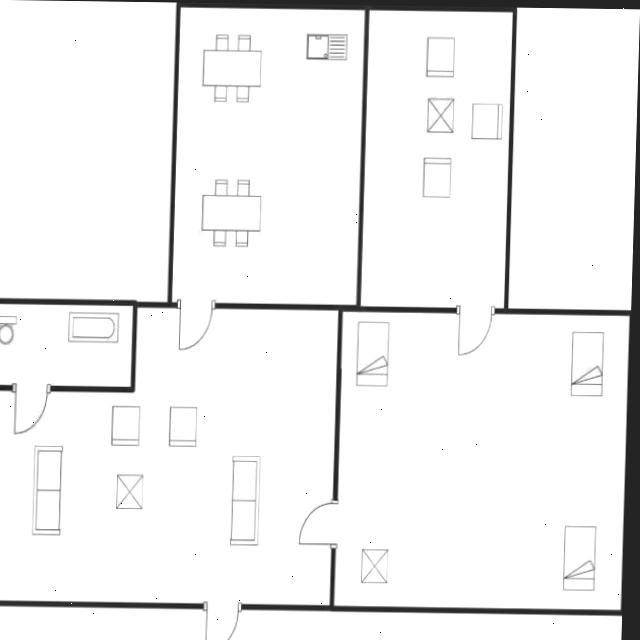room: (0, 305, 338, 606), (334, 307, 630, 614), (172, 5, 365, 308), (361, 8, 513, 310), (0, 304, 133, 387)
